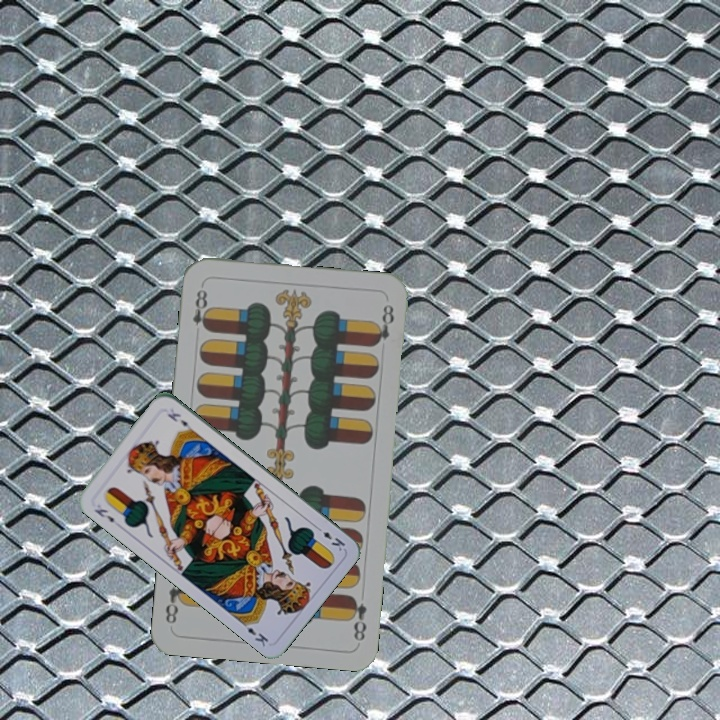E8: (345, 591, 370, 643), (189, 281, 213, 334)
EK: (311, 522, 348, 554), (90, 504, 117, 525)
